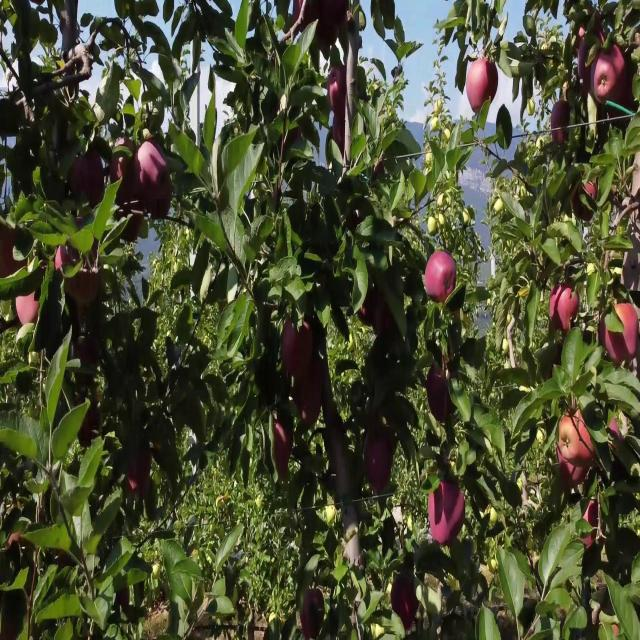apple: (56, 248, 103, 311), (136, 142, 172, 222), (428, 483, 467, 548), (292, 362, 327, 428), (576, 28, 608, 100), (604, 305, 640, 368), (108, 142, 139, 212), (280, 319, 316, 379), (72, 149, 107, 210), (364, 433, 395, 496), (116, 177, 145, 244), (424, 248, 457, 306), (468, 56, 500, 112), (556, 426, 583, 485), (317, 0, 350, 48), (72, 263, 103, 311), (576, 42, 600, 100), (392, 583, 420, 631), (596, 49, 619, 107), (112, 142, 136, 197), (556, 419, 579, 475), (468, 56, 490, 114), (572, 177, 600, 222), (117, 199, 145, 244), (316, 7, 342, 55), (272, 419, 295, 473), (300, 590, 324, 639), (576, 412, 597, 468), (552, 284, 576, 332), (328, 63, 348, 119), (128, 455, 152, 501), (0, 220, 18, 279), (560, 284, 581, 332), (556, 455, 587, 487), (428, 362, 451, 404), (324, 0, 350, 37), (608, 42, 627, 91), (620, 71, 640, 116), (16, 291, 40, 327), (552, 99, 572, 142), (76, 334, 101, 368), (376, 298, 395, 340), (624, 248, 640, 293), (560, 462, 587, 487), (552, 284, 566, 332), (432, 398, 455, 427), (488, 56, 501, 100), (608, 419, 625, 452), (56, 248, 75, 276), (572, 28, 589, 57), (304, 1, 319, 28), (552, 127, 570, 148), (360, 298, 372, 329), (292, 0, 304, 27)
